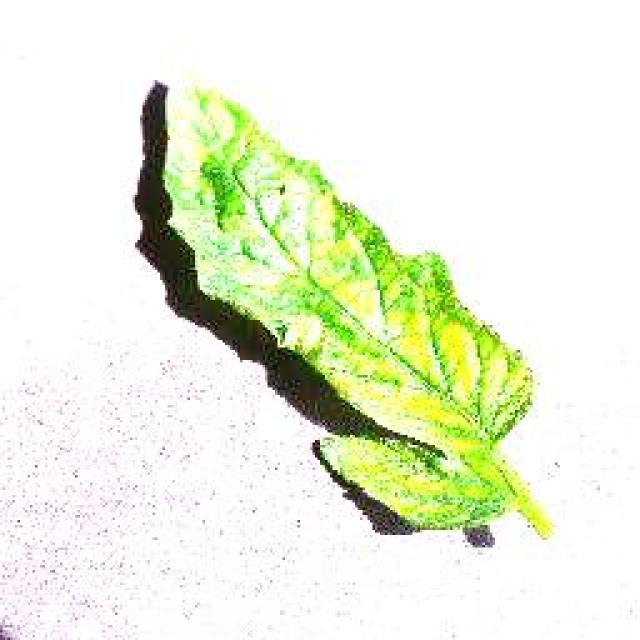Tomato___Tomato_mosaic_virus: (162, 88, 550, 535)
